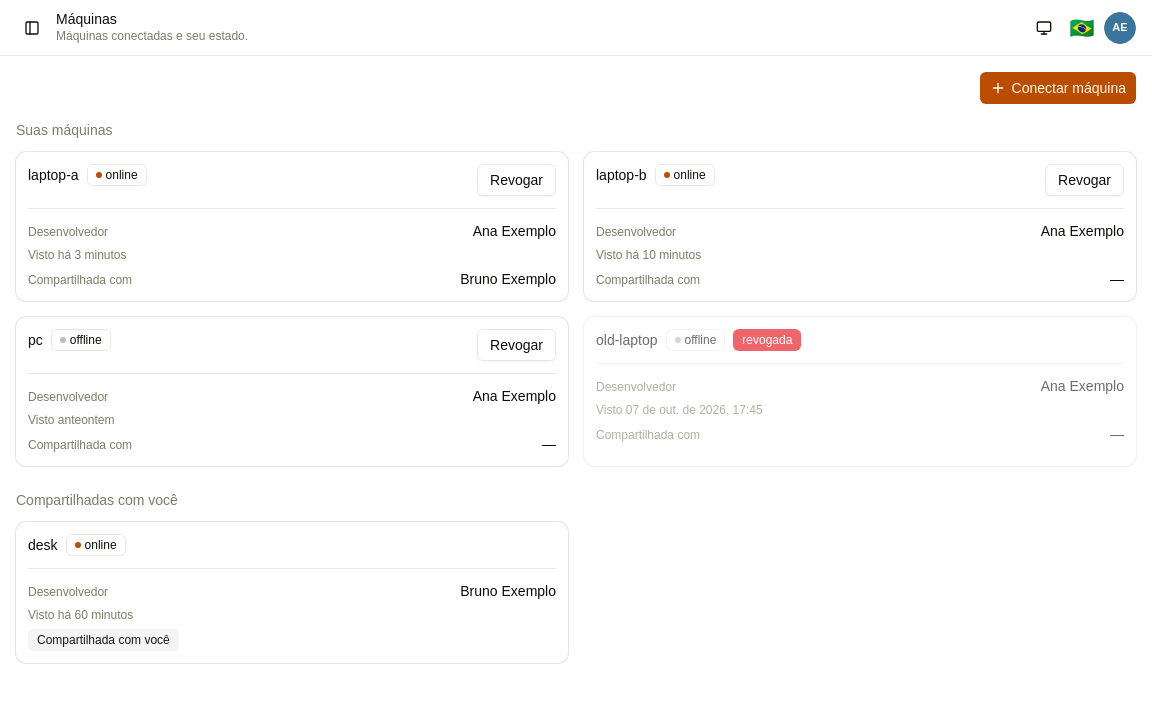
Test: connect machine dialog › maps 429 to the rate-limit message
Click the button "Conectar máquina".
click(1058, 88)  # box [980,72,1136,104]
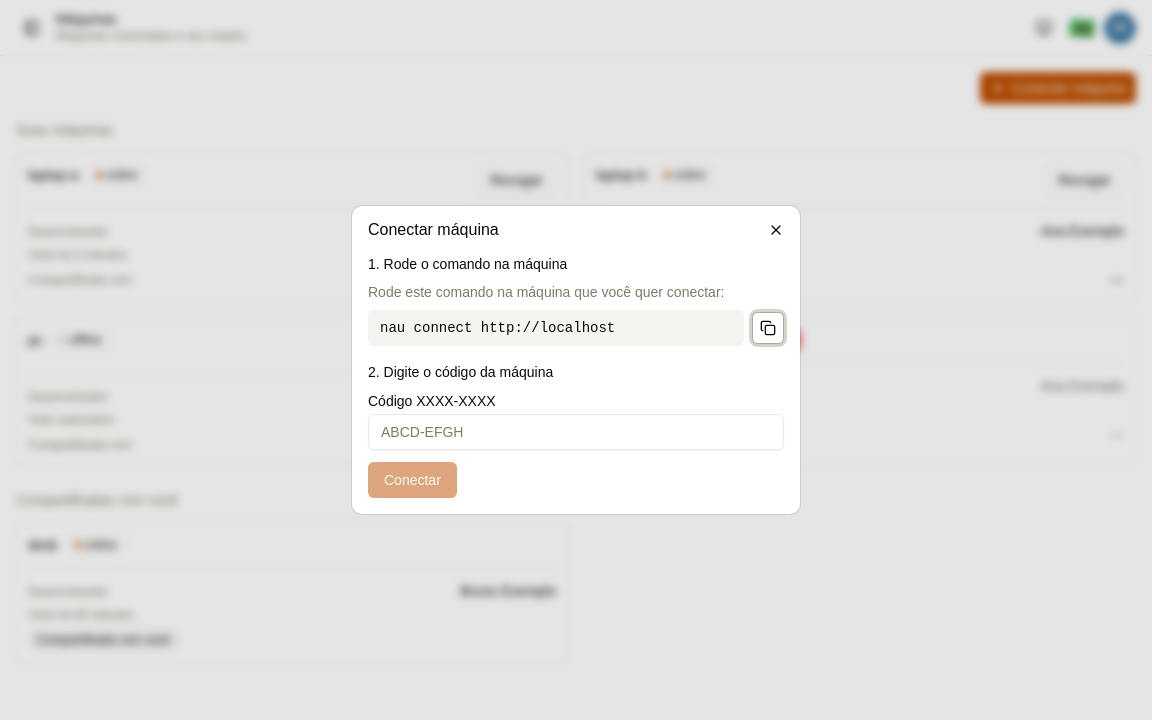
Type "zzzz-zzzz" into the field labelled "Código XXXX-XXXX".
click(576, 432); type("zzzz-zzzz")  # box [368,414,784,450]
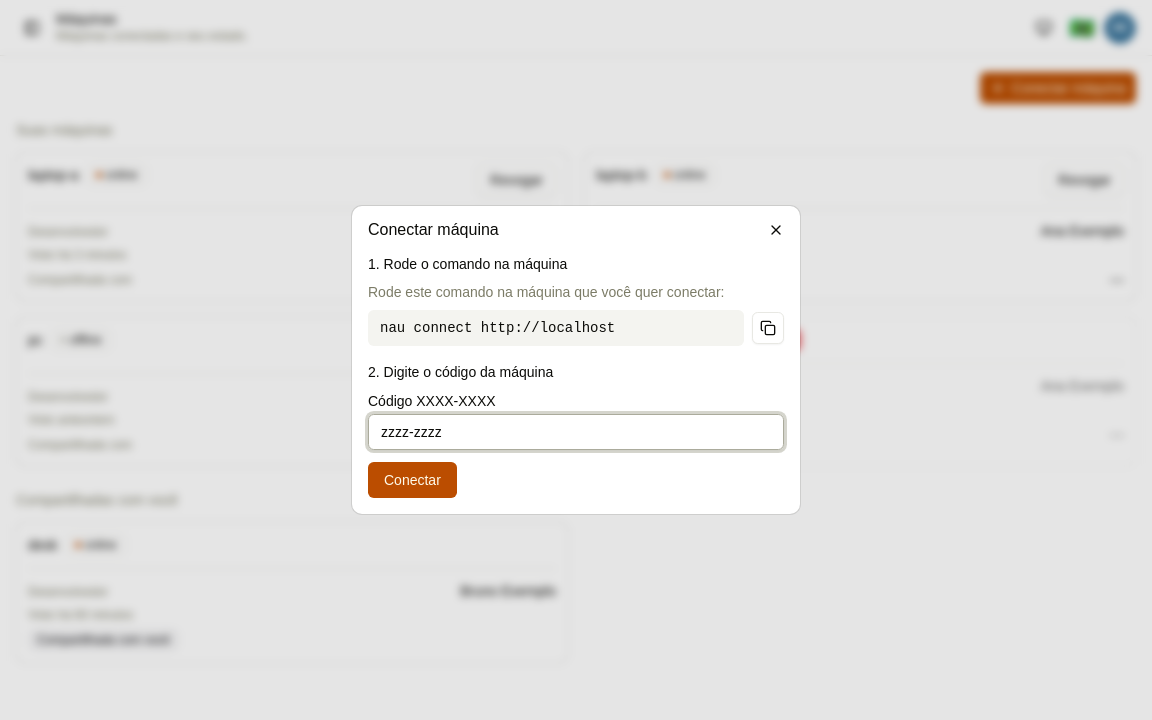
Click the button "Conectar".
click(412, 480)  # box [368,462,457,498]
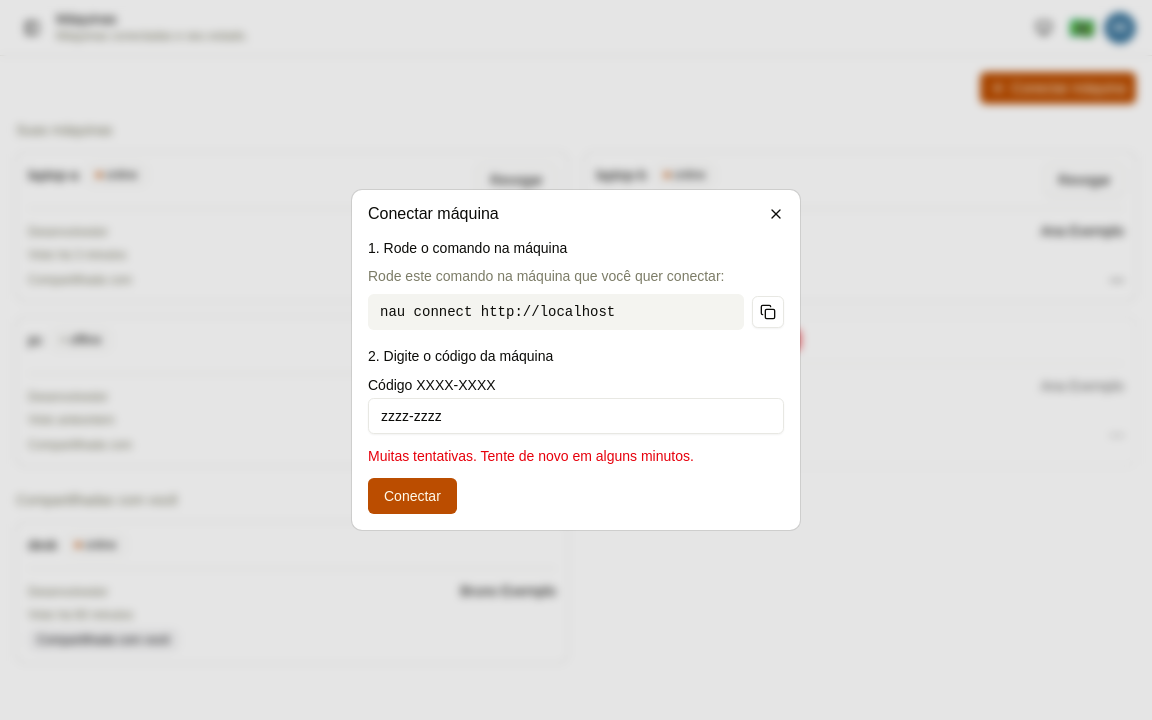
Expected: the message reads "Muitas tentativas. Tente de novo em alguns minutos.", [368,448,694,464]
